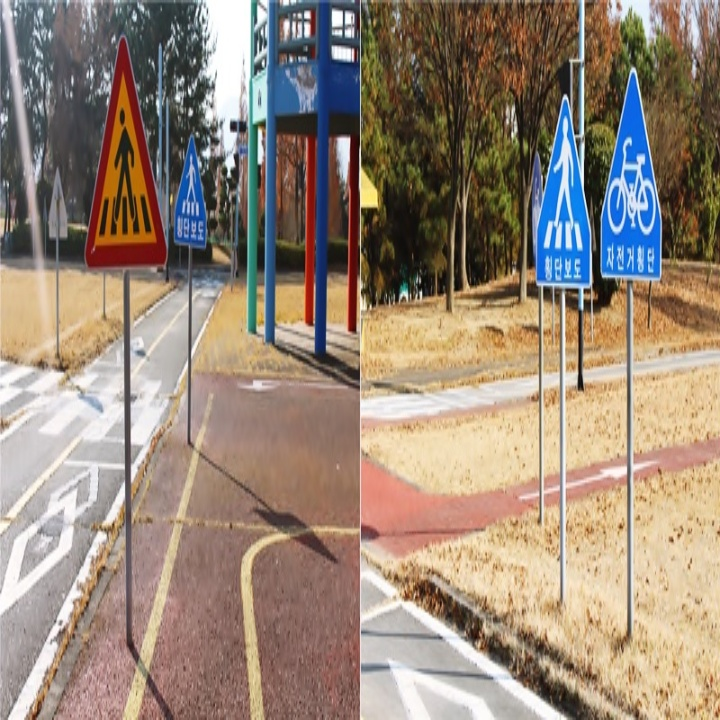bicycle: (203, 171, 505, 473)
